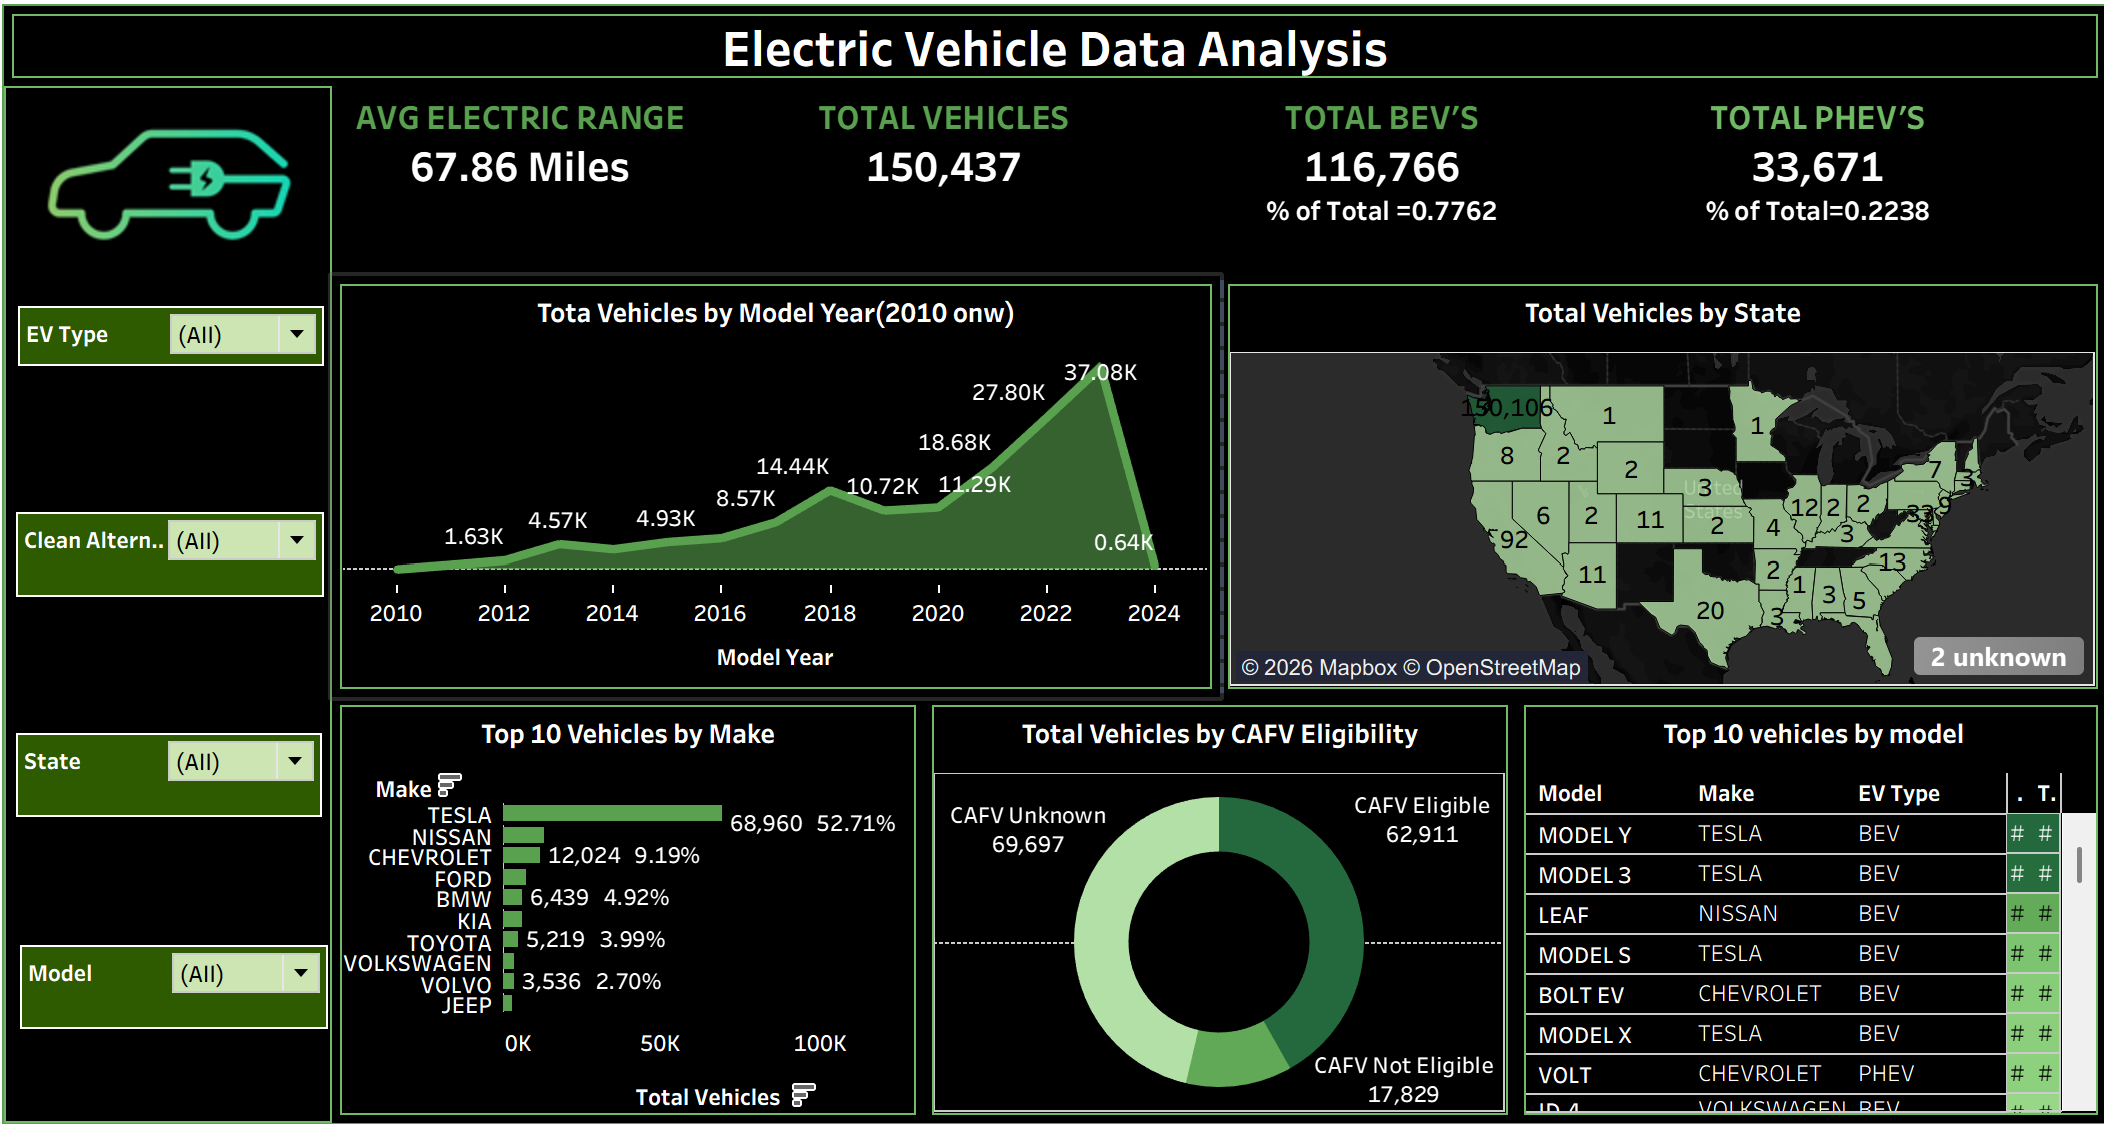

What the dashboard file says about the page in this screenshot:
{"tool":"tableau","page":{"name":"Electric Vehicle Data Analysis","canvas":[1000,1000],"units":"permille","ordinal":0},"visuals":[{"type":"title","box":[8.4,15.6,983.2,69.1]},{"type":"worksheet","title":"Average Electric Range","mark":"Automatic","box":[161.8,84.8,217.2,165.2]},{"type":"worksheet","title":"Total Vehicles","mark":"Automatic","box":[378.9,85.1,204.9,164.9]},{"type":"worksheet","title":"Total BEV Vehicles","mark":"Automatic","box":[583.7,85.1,203.9,164.9]},{"type":"worksheet","title":"Total PHEV Vehicles","mark":"Automatic","box":[787.6,85.1,203.9,164.9]},{"type":"image","param":"Image/image-removebg-preview.png","box":[9.4,86.5,151.5,896.1]},{"type":"worksheet","title":"Tota Vehicles by Model Year(2010 onw)","mark":"Line","rows":["Calculation_0687787843047424","Calculation_0687787843047424"],"cols":["Model Year"],"box":[161.8,250,415.3,364.6]},{"type":"worksheet","title":"Total Vehicles by State","mark":"Automatic","box":[577.2,250,414.4,364.6]},{"type":"filter","title":"Top 10 Vehicles by Make","param":"[federated.0z9r9h70sv15w01ebiptt1pfps6i].[none:Electric Vehicle Type:nk]","box":[15,276,143.1,52.1]},{"type":"filter","title":"Top 10 Vehicles by Make","param":"[federated.0z9r9h70sv15w01ebiptt1pfps6i].[none:Clean Alternative Fuel Vehicle (C","box":[14,454.9,144.1,72.9]},{"type":"worksheet","title":"Top 10 Vehicles by Make","mark":"Automatic","rows":["Make"],"cols":["Calculation_0687787843047424"],"box":[161.8,614.6,276.9,369.8]},{"type":"worksheet","title":"Total Vehicles by CAFV Eligibility","mark":"Pie","rows":["Calculation_0687787864010761","Calculation_0687787864010761"],"box":[438.7,614.6,276.9,369.8]},{"type":"worksheet","title":" Top 10 vehicles by model","mark":"Square","rows":["Model","Make","Electric Vehicle Type"],"box":[715.6,614.6,276,369.8]},{"type":"filter","title":"Top 10 Vehicles by Make","param":"[federated.0z9r9h70sv15w01ebiptt1pfps6i].[none:State:nk]","box":[14,645.8,143.1,72.9]},{"type":"filter","title":"Top 10 Vehicles by Make","param":"[federated.0z9r9h70sv15w01ebiptt1pfps6i].[none:Model:nk]","box":[15.9,829.9,144.1,72.9]}]}

Visuals, with their boxes on the dashboard's canvas, which has no fixed pixel size, in thousandths of its width and height (x1, y1, x2, y2). These are canvas units, not pixel positions in the 2104x1124 screenshot, which may show the page scaled, cropped or inside an application window:
title: 8:16:992:85
"Average Electric Range" worksheet: 162:85:379:250
"Total Vehicles" worksheet: 379:85:584:250
"Total BEV Vehicles" worksheet: 584:85:788:250
"Total PHEV Vehicles" worksheet: 788:85:992:250
image: 9:86:161:983
"Tota Vehicles by Model Year(2010 onw)" worksheet (Line marks): 162:250:577:615
"Total Vehicles by State" worksheet: 577:250:992:615
"Top 10 Vehicles by Make" filter: 15:276:158:328
"Top 10 Vehicles by Make" filter: 14:455:158:528
"Top 10 Vehicles by Make" worksheet: 162:615:439:984
"Total Vehicles by CAFV Eligibility" worksheet (Pie marks): 439:615:716:984
" Top 10 vehicles by model" worksheet (Square marks): 716:615:992:984
"Top 10 Vehicles by Make" filter: 14:646:157:719
"Top 10 Vehicles by Make" filter: 16:830:160:903
